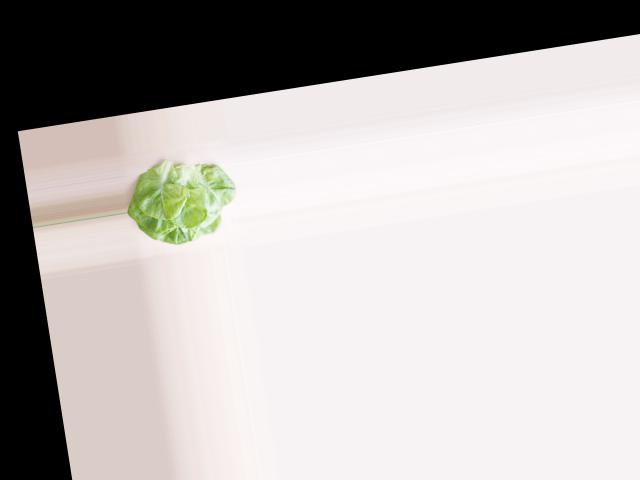lettuce: (123, 154, 240, 251)
